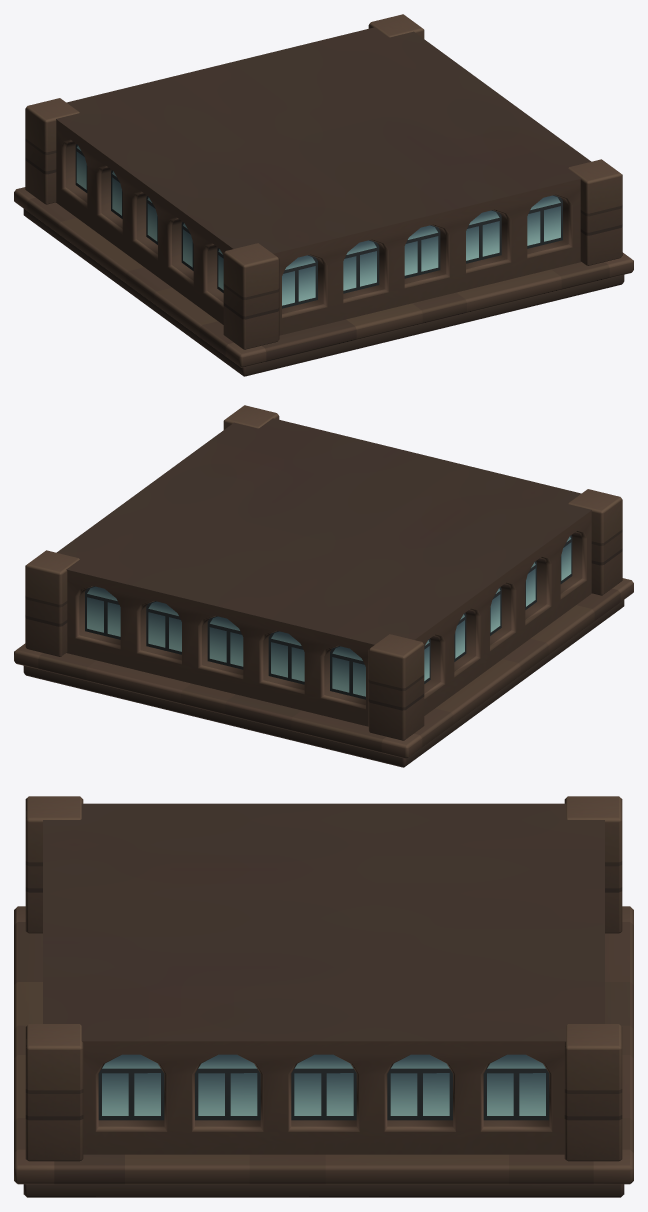
File: office_building_type1_single_floor1_brown.fbx
3 renders of one model, top to bottom at view 1: azimuth 30°, elevation 25°; view 2: azimuth 150°, elevation 25°; view 3: azimuth 270°, elevation 25°, orthographic. The views are drawn at different scales.
Parts seen in each view (by area): view 1: office_building_type1_single_floor1_brown; view 2: office_building_type1_single_floor1_brown; view 3: office_building_type1_single_floor1_brown.
Part boxes in pixels (bbox=[...]): office_building_type1_single_floor1_brown: bbox=[14, 14, 633, 376]; office_building_type1_single_floor1_brown: bbox=[14, 405, 633, 767]; office_building_type1_single_floor1_brown: bbox=[14, 796, 633, 1197].
Bounding box in the file's own units: 1610 × 434 × 1610.
